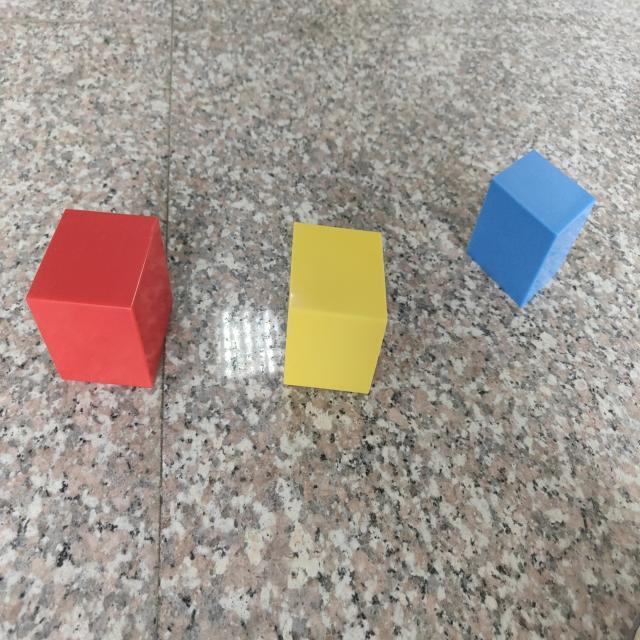blue: (466, 151, 595, 310)
red: (25, 209, 173, 393)
yellow: (282, 223, 388, 396)
